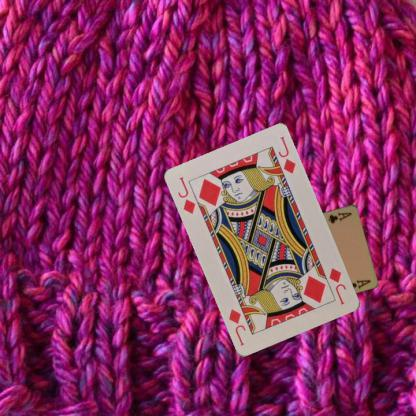Ac: (326, 210, 353, 224)
Jd: (175, 174, 198, 216), (326, 265, 348, 306)
